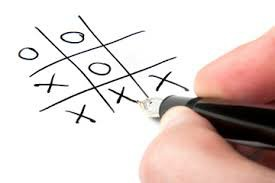pen: (131, 97, 275, 144)
